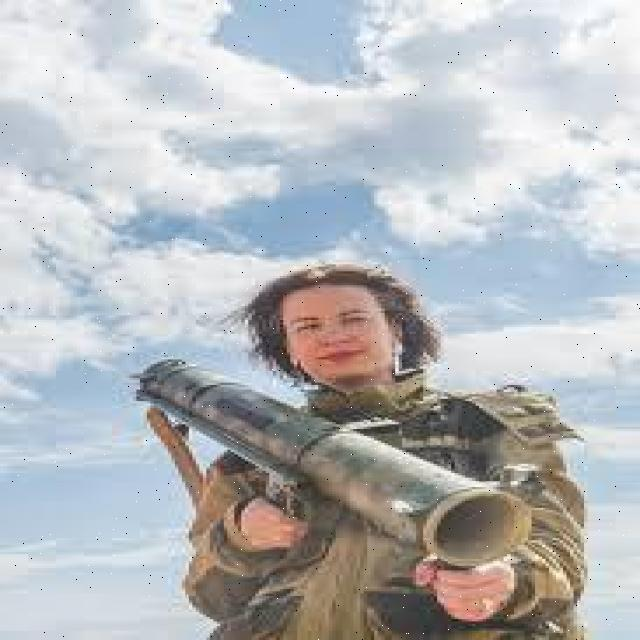bazooka: (134, 357, 548, 575)
